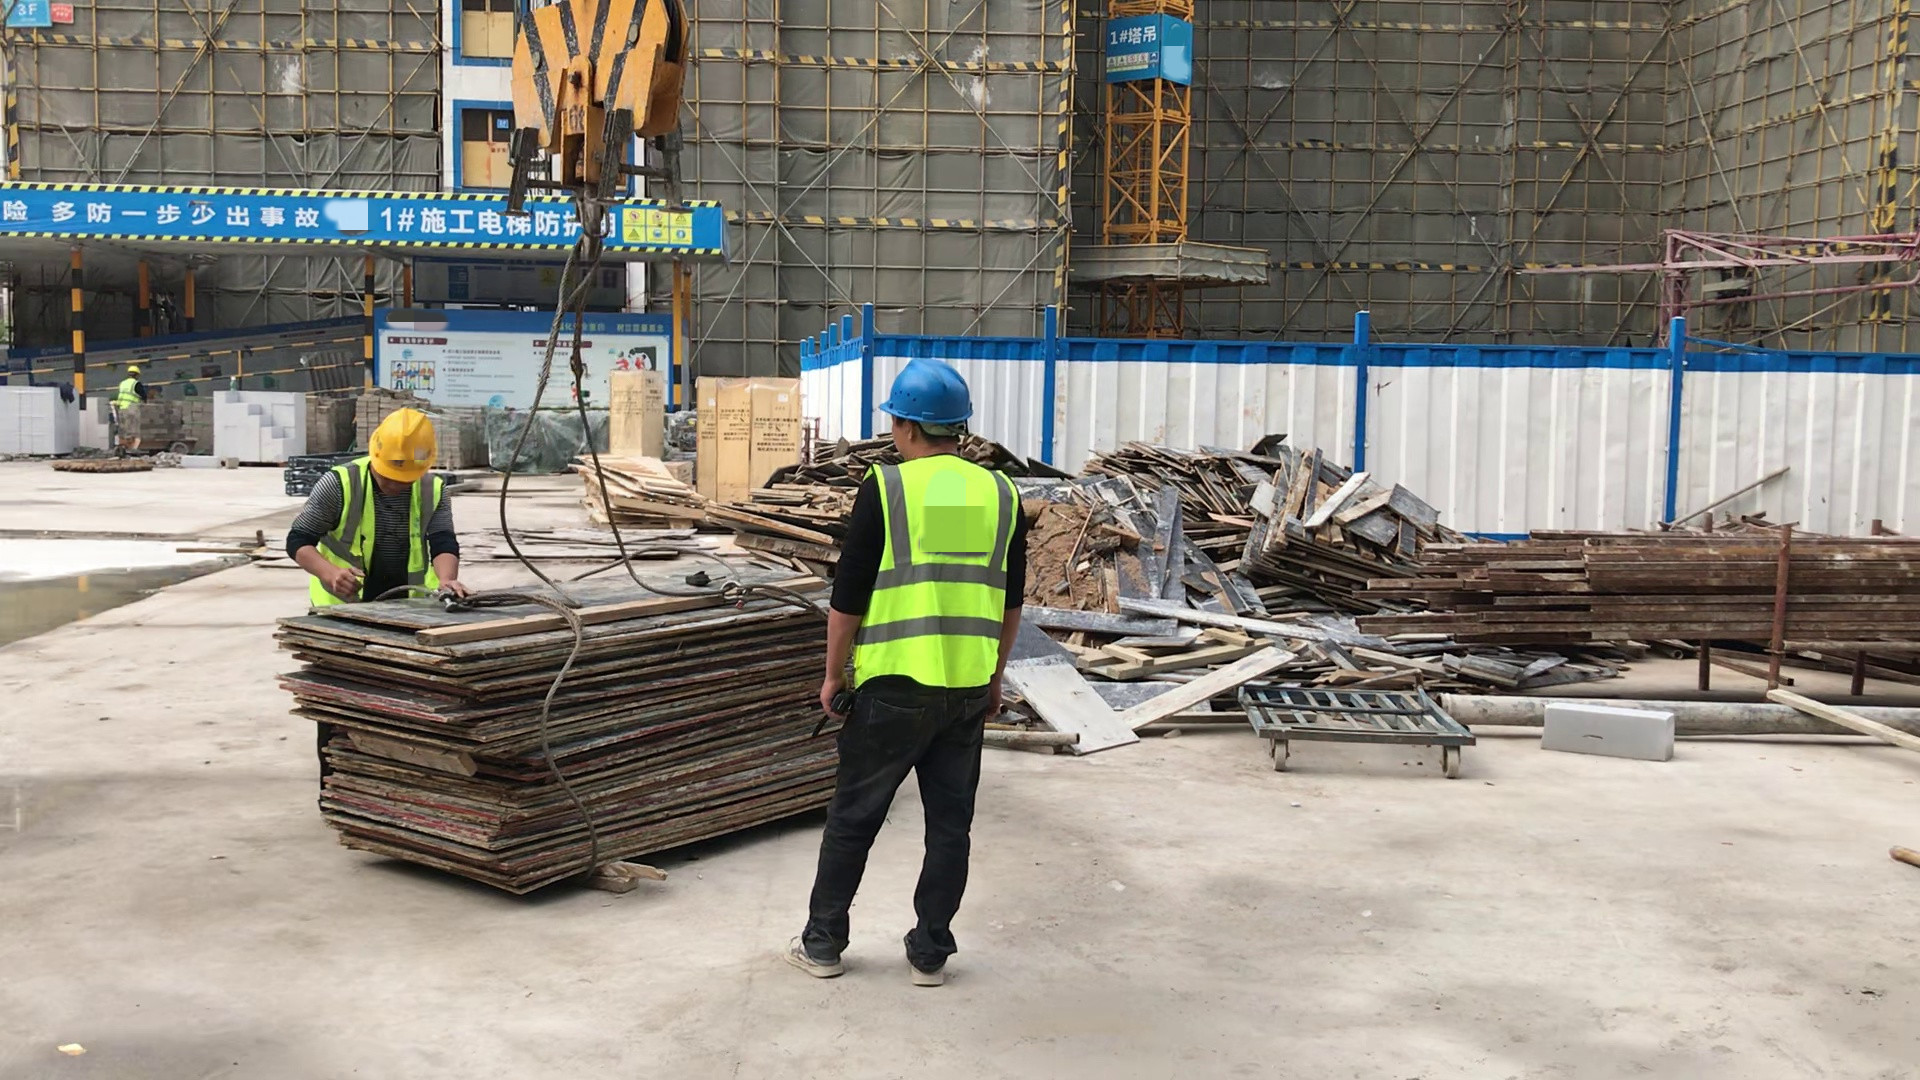board: (267, 569, 831, 894)
brick: (1, 384, 107, 460), (215, 393, 303, 468)
helmet: (876, 356, 974, 421), (128, 366, 140, 374)
hook: (504, 8, 696, 257)
person: (784, 356, 1029, 987), (285, 409, 474, 602), (112, 365, 144, 404)
slogan: (4, 191, 322, 234), (620, 206, 690, 246), (1105, 51, 1157, 75)
vest: (851, 456, 1021, 686), (310, 456, 446, 605), (117, 377, 141, 404)
